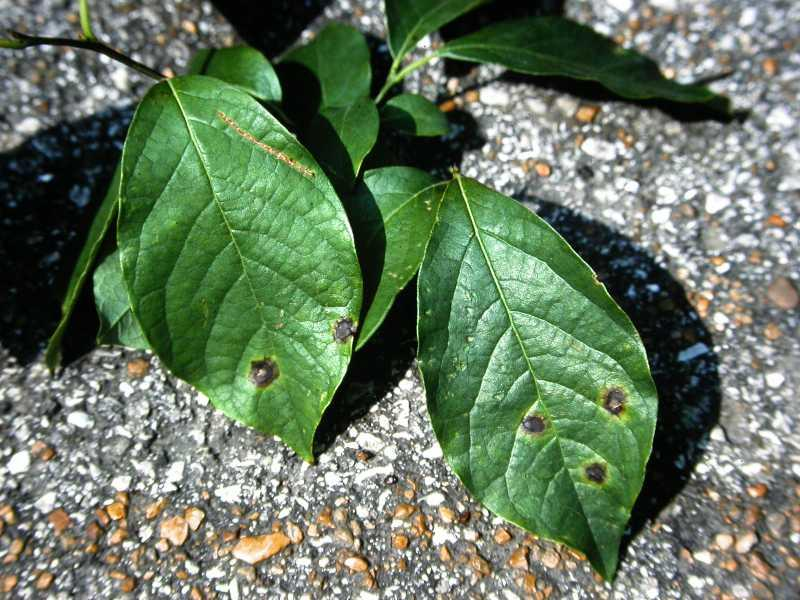Tomato leaf late blight: (408, 171, 690, 596), (112, 73, 381, 474)
